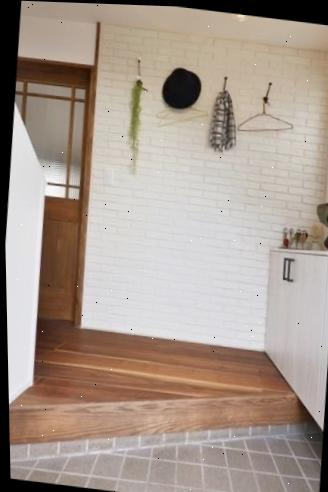floor: (10, 432, 323, 492)
safe: (9, 317, 295, 407)
